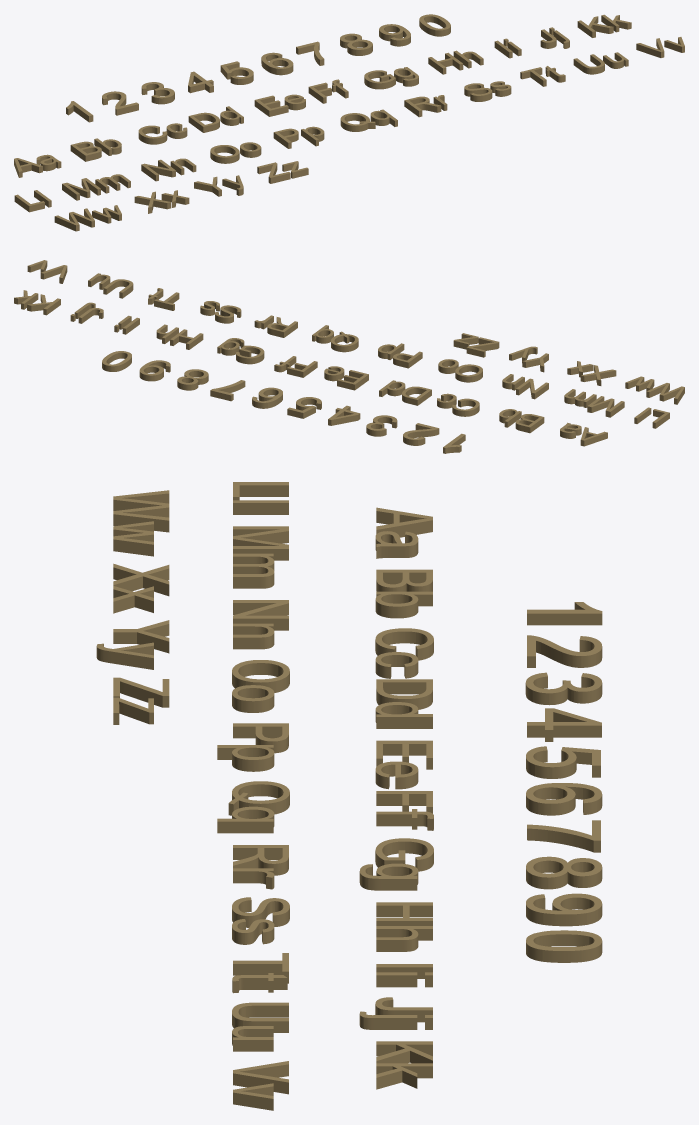
File: uploads_files_1950256_ABC.fbx
3 renders of one model, top to bottom at view 1: azimuth 30°, elevation 25°; view 2: azimuth 150°, elevation 25°; view 3: azimuth 270°, elevation 25°, orthographic. The views are drawn at different scales.
Visible parts, largest first — view 1: Body7, Body5, Body8, Body6, Body3, Body64, Body9, Body55, Body59, Body1, Body32, Body21 (+20 smaller); view 2: Body1, Body6, Body5, Body7, Body8, Body64, Body3, Body59, Body9, Body32, Body55, Body45 (+22 smaller); view 3: Body3, Body6, Body5, Body7, Body64, Body9, Body8, Body1, Body2, Body59, Body55, Body42 (+38 smaller).
Part boxes in pixels (x1,y1,x2,y2): Body7: (261,52,293,75); Body5: (379,24,410,46); Body8: (220,61,253,84); Body6: (340,33,372,55); Body3: (419,14,450,36); Body64: (54,208,94,231); Body9: (141,82,174,104); Body55: (340,113,375,131); Body59: (62,178,100,200); Body1: (102,91,138,115); Body32: (364,70,395,89); Body21: (404,96,441,117); Body1: (403,423,439,445); Body6: (177,369,208,390); Body5: (139,360,170,381); Body7: (252,387,282,408); Body8: (287,397,321,418); Body64: (646,383,684,404); Body3: (102,351,131,371); Body59: (587,396,624,417); Body9: (366,415,397,436); Body32: (236,345,264,364); Body55: (331,331,358,352); Body45: (337,370,368,390); Body3: (526,930,602,962); Body6: (526,856,602,889); Body5: (526,893,602,926); Body7: (526,783,602,815); Body64: (113,490,169,532); Body9: (525,672,602,705); Body8: (526,746,600,778); Body1: (527,635,602,667); Body2: (527,708,601,741); Body59: (233,526,288,560); Body55: (228,781,289,815); Body42: (359,863,418,890).
Size of the model in its own units: 559 by 5 by 193.
